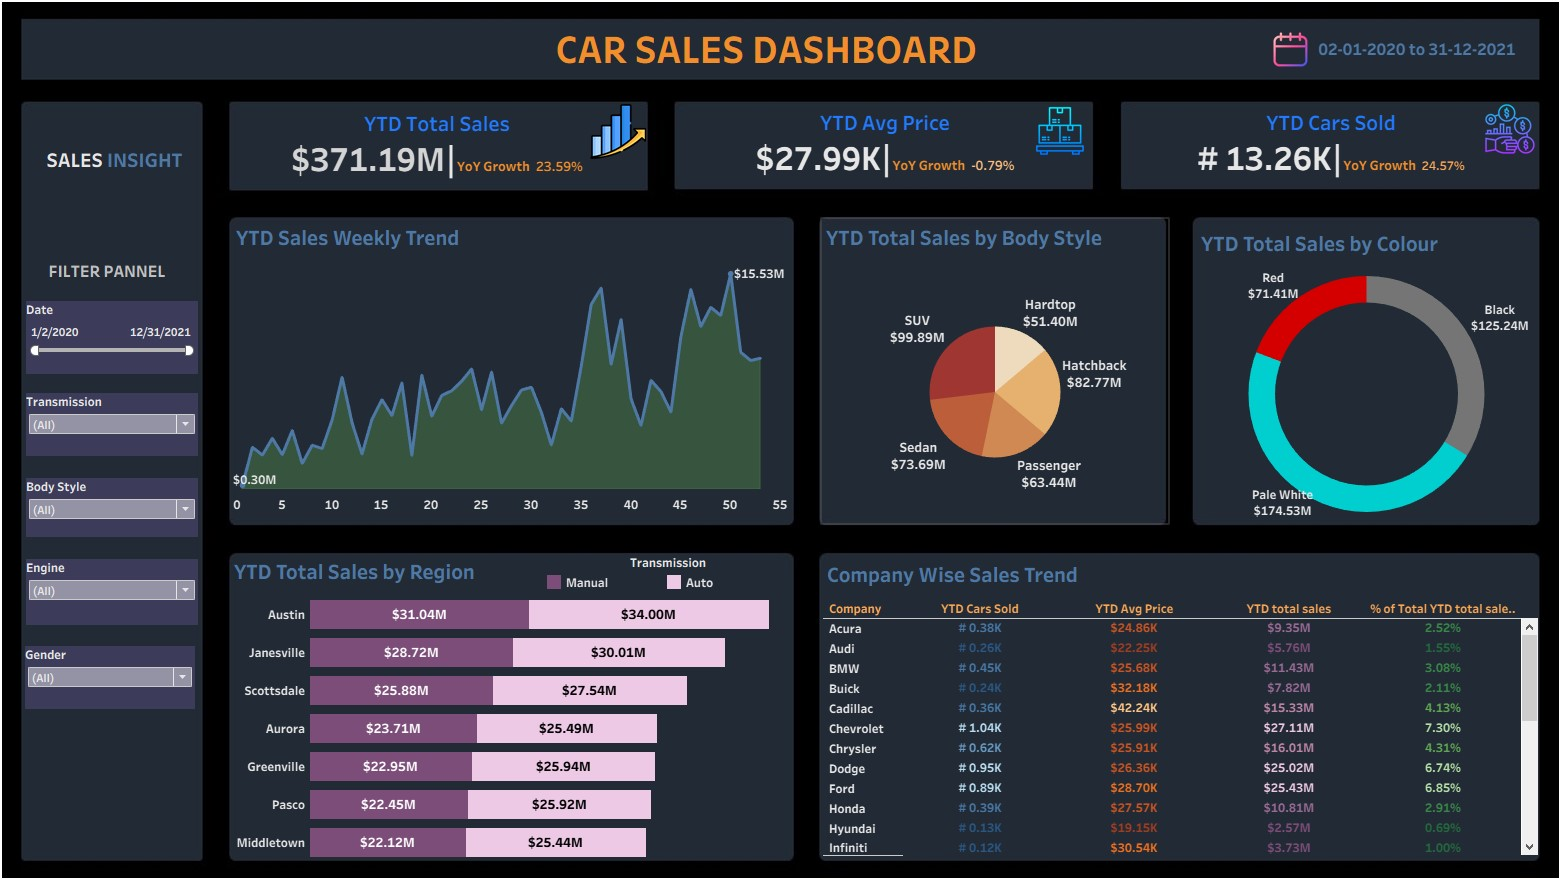

Layout of this report page (visuals, bound fields, positions):
{"tool":"tableau","page":{"name":"Dashboard 1","canvas":[1600,900],"ordinal":0},"visuals":[{"type":"image","param":"C:/Users/admin/Desktop/pradip/Tableau Sales Dashboard 2nd/Car Sales Background.j","box":[8,8,1584,884]},{"type":"text","box":[572,33,427,50]},{"type":"worksheet","title":"Sheet 9","mark":"Automatic","box":[1316,37,239,43]},{"type":"image","param":"C:/Users/admin/Desktop/pradip/Tableau Sales Dashboard 2nd/calendar (1).png","box":[1289,40,41,38]},{"type":"worksheet","title":"YTD total sales","mark":"Automatic","box":[247,111,418,89]},{"type":"worksheet","title":"YTD Avg Price","mark":"Automatic","box":[694,111,419,88]},{"type":"worksheet","title":"YTD Car Sold","mark":"Automatic","box":[1143,112,414,85]},{"type":"image","param":"C:/Users/admin/Desktop/pradip/ACC/profits_1365397.png","box":[609,113,59,56]},{"type":"image","param":"C:/Users/admin/Desktop/pradip/Tableau Sales Dashboard 2nd/Cars Sold Icon.png","box":[1503,113,55,51]},{"type":"image","param":"C:/Users/admin/Desktop/pradip/Tableau Sales Dashboard 2nd/Avg Price Icon.png","box":[1053,115,57,51]},{"type":"text","box":[63,154,142,30]},{"type":"worksheet","title":"YTD Sales Weekly Trend","mark":"Area","rows":["Calculation_0662512885927936","Calculation_0662512885927936"],"cols":["Date"],"box":[251,229,558,300]},{"type":"worksheet","title":"YTD Total Sales by Body Style","mark":"Pie","box":[841,229,346,304]},{"type":"worksheet","title":"YTD Total Sales by Colour","mark":"Pie","rows":["Calculation_0662512907108362","Calculation_0662512907165708"],"box":[1216,235,339,296]},{"type":"text","box":[65,266,145,30]},{"type":"filter","title":"YTD Sales Weekly Trend","param":"[federated.0xmwr800y0sr8y12ssznz1tto4m4].[none:Date:qk]","box":[45,311,172,73]},{"type":"filter","title":"YTD Sales Weekly Trend","param":"[federated.0xmwr800y0sr8y12ssznz1tto4m4].[none:Transmission:nk]","box":[45,403,172,63]},{"type":"filter","title":"YTD Sales Weekly Trend","param":"[federated.0xmwr800y0sr8y12ssznz1tto4m4].[none:Body Style:nk]","box":[45,488,172,59]},{"type":"worksheet","title":"YTD Total Sales by Region","mark":"Automatic","rows":["Dealer_Region"],"cols":["Calculation_0662512885927936"],"box":[249,563,562,308]},{"type":"legend","title":"YTD Total Sales by Region","param":"[federated.0xmwr800y0sr8y12ssznz1tto4m4].[none:Transmission:nk]","box":[563,564,248,42]},{"type":"worksheet","title":"Company Wise Sales Trend","mark":"Automatic","rows":["Company"],"box":[842,566,715,300]},{"type":"filter","title":"YTD Sales Weekly Trend","param":"[federated.0xmwr800y0sr8y12ssznz1tto4m4].[none:Engine:nk]","box":[45,569,172,66]},{"type":"filter","title":"YTD Sales Weekly Trend","param":"[federated.0xmwr800y0sr8y12ssznz1tto4m4].[none:Gender:nk]","box":[44,656,170,63]}]}

Visuals, with their boxes in screenshot pixels (x1, y1, x2, y2), scaled from the page's 1600x900 canvas onto the 1562x879 screenshot:
image: 8 8 1554 871
text: 558 32 975 81
"Sheet 9" worksheet: 1285 36 1518 78
image: 1258 39 1298 76
"YTD total sales" worksheet: 241 108 649 195
"YTD Avg Price" worksheet: 678 108 1087 194
"YTD Car Sold" worksheet: 1116 109 1520 192
image: 595 110 652 165
image: 1467 110 1521 160
image: 1028 112 1084 162
text: 62 150 200 180
"YTD Sales Weekly Trend" worksheet (Area marks): 245 224 790 517
"YTD Total Sales by Body Style" worksheet (Pie marks): 821 224 1159 521
"YTD Total Sales by Colour" worksheet (Pie marks): 1187 230 1518 519
text: 63 260 205 289
"YTD Sales Weekly Trend" filter: 44 304 212 375
"YTD Sales Weekly Trend" filter: 44 394 212 455
"YTD Sales Weekly Trend" filter: 44 477 212 534
"YTD Total Sales by Region" worksheet: 243 550 792 851
"YTD Total Sales by Region" legend: 550 551 792 592
"Company Wise Sales Trend" worksheet: 822 553 1520 846
"YTD Sales Weekly Trend" filter: 44 556 212 620
"YTD Sales Weekly Trend" filter: 43 641 209 702
